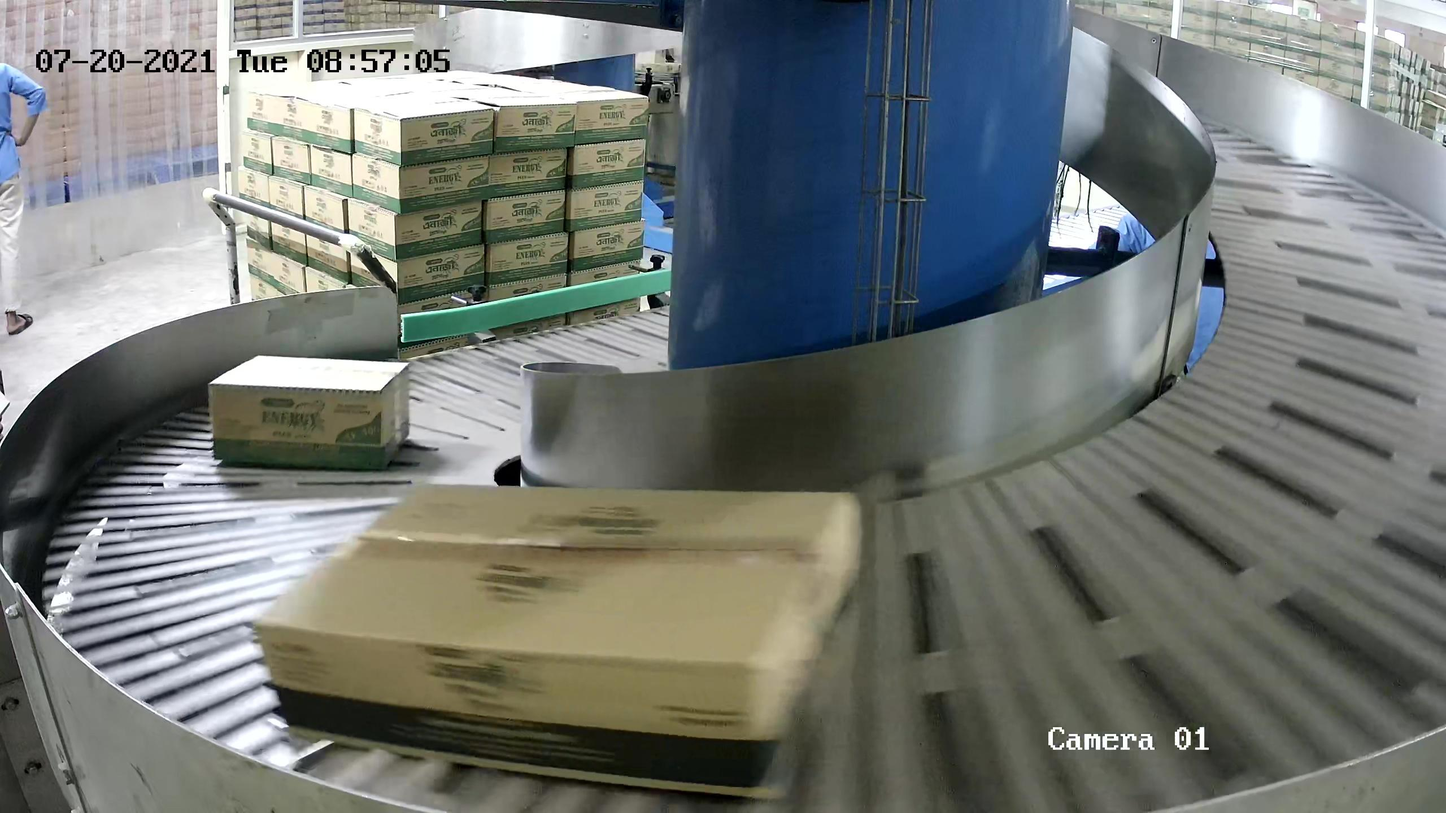Box: (252, 480, 869, 800), (207, 351, 413, 472)
